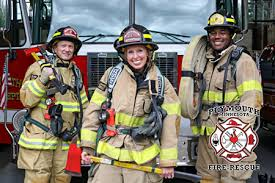emergent: (178, 9, 266, 182), (91, 24, 176, 183), (20, 23, 89, 183)
